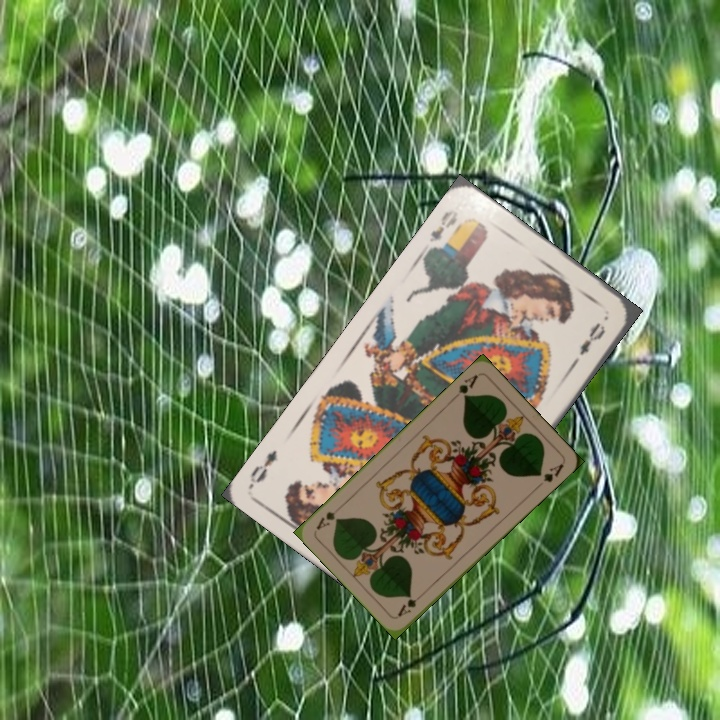EO: (425, 205, 461, 245)
GA: (448, 370, 481, 401), (393, 589, 426, 619)
